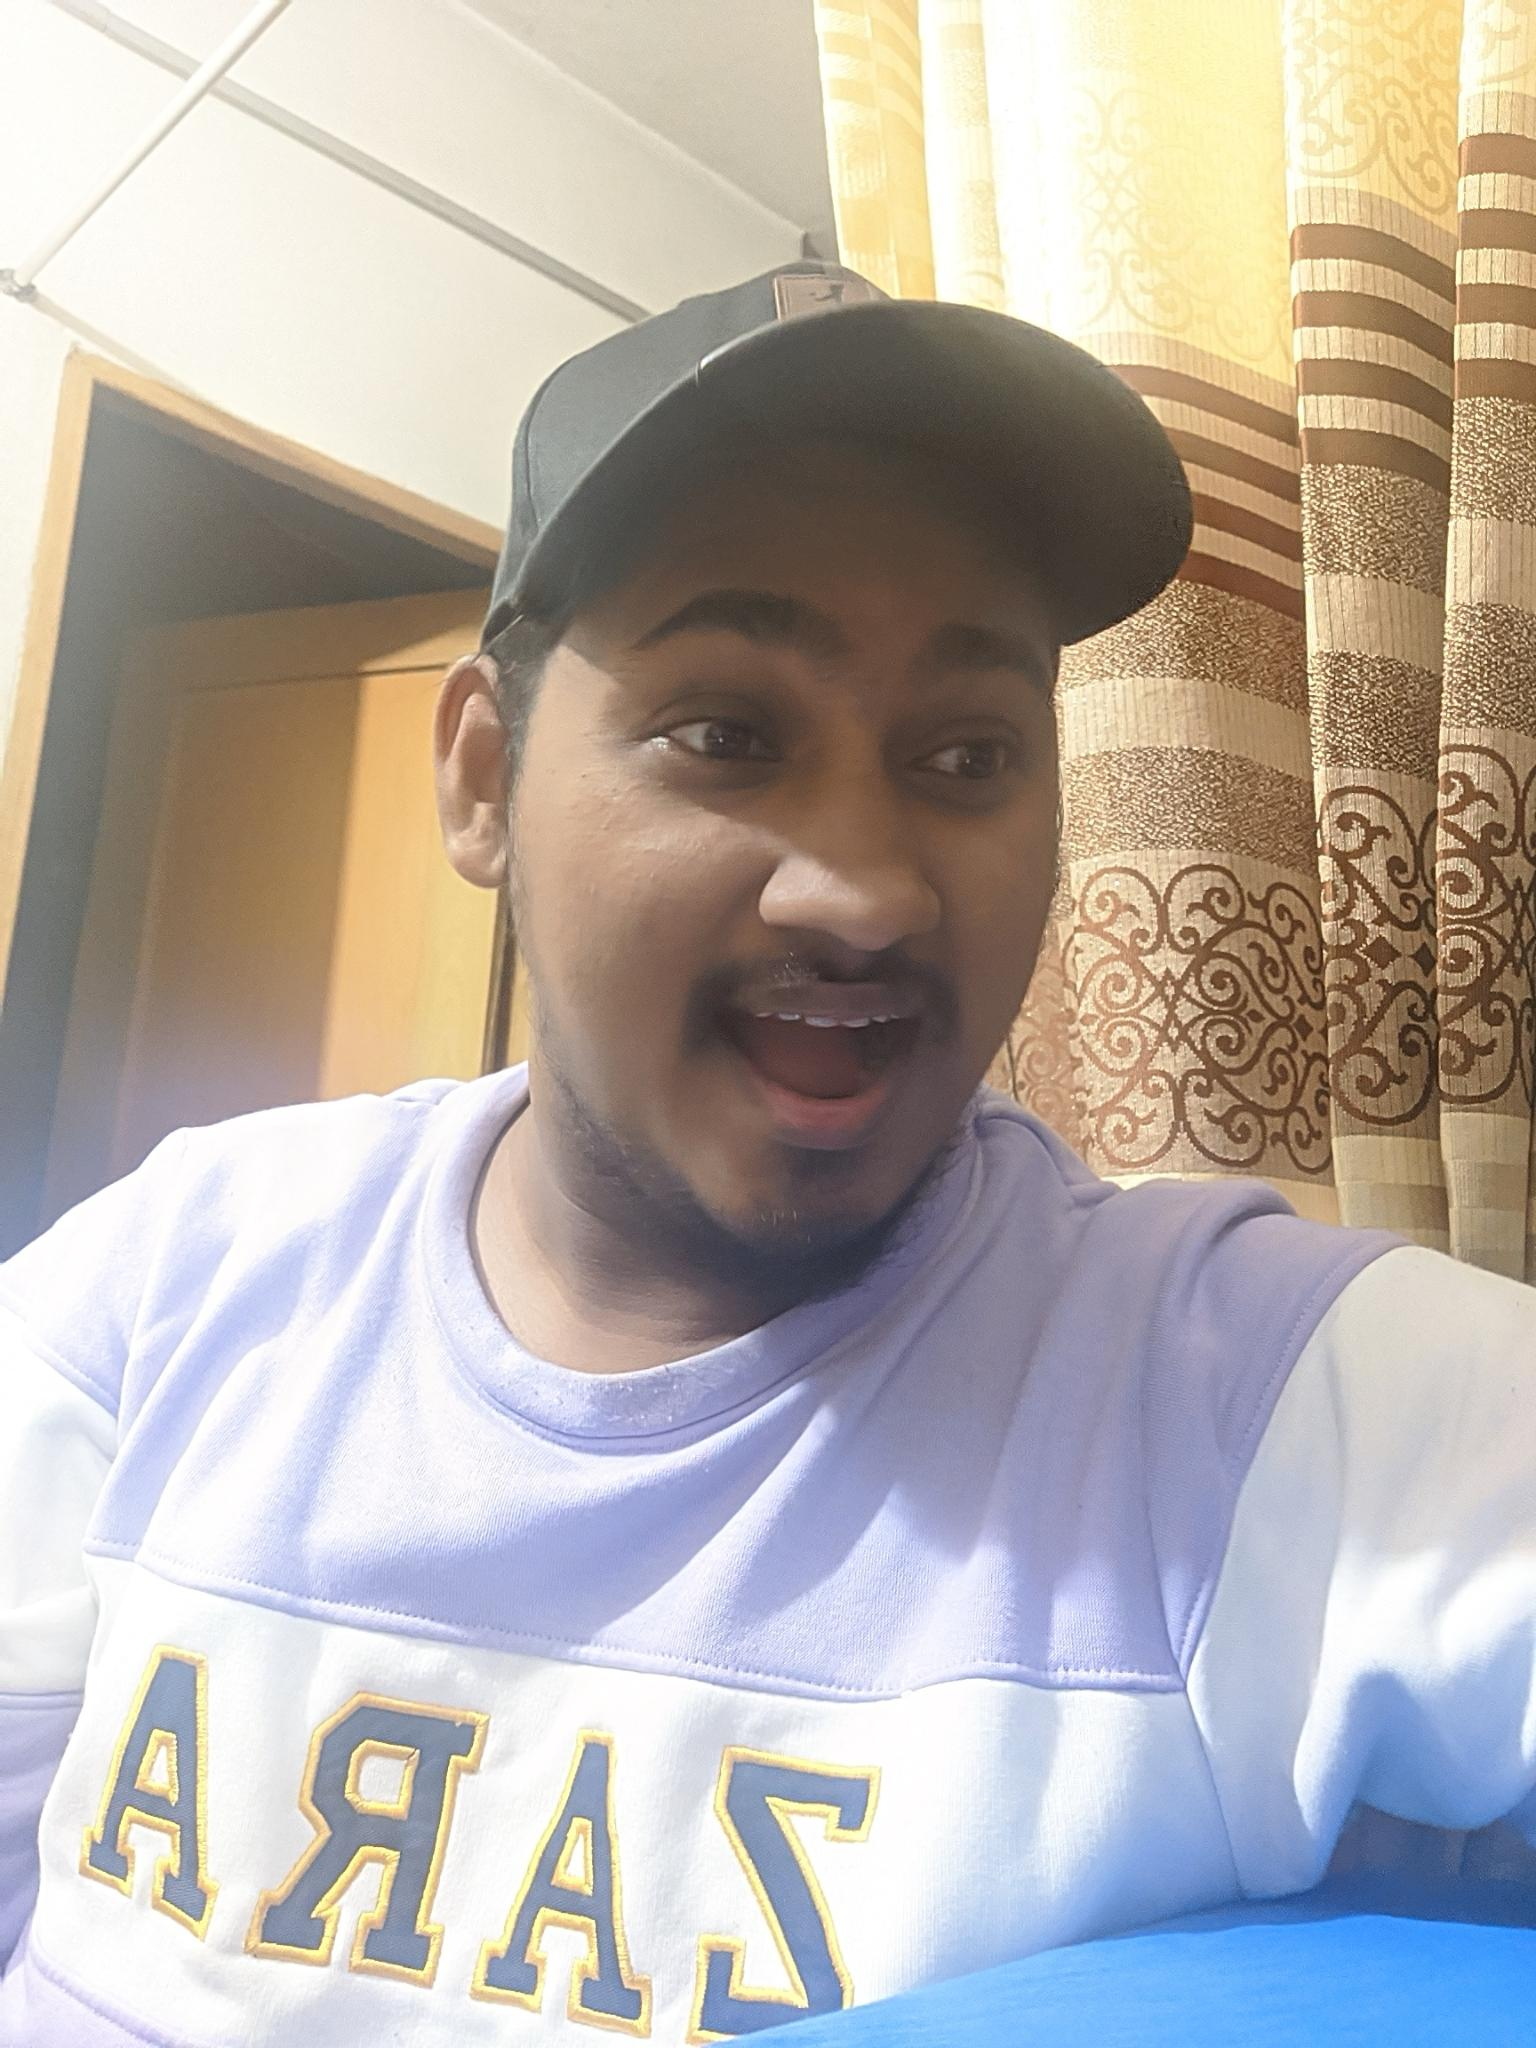Surprise: (584, 495, 1066, 1234)
